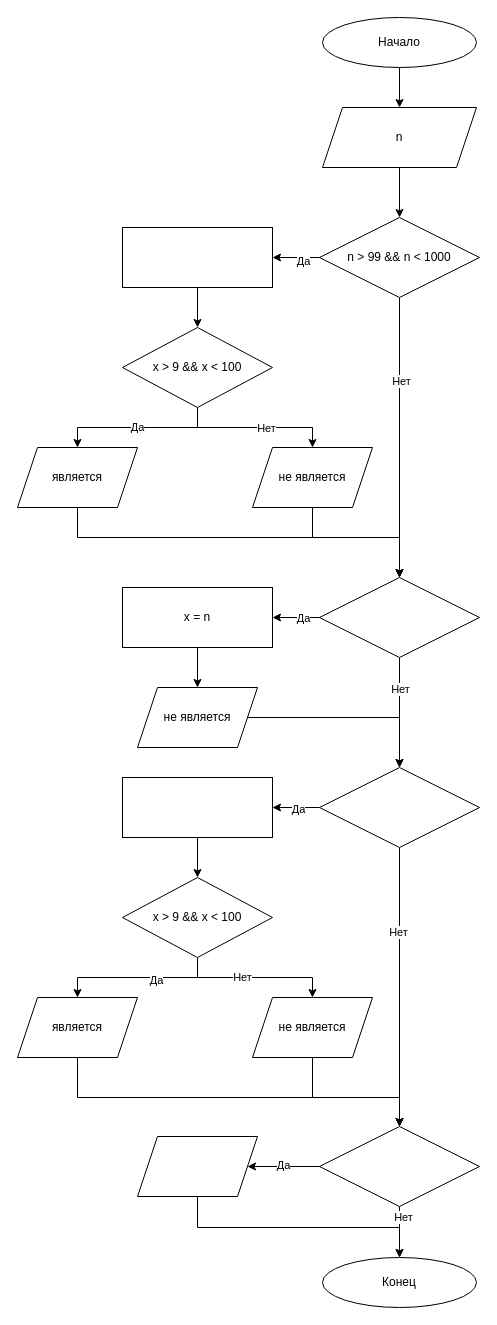
The diagram is 497 pixels wide and 1325 high, and some of its shapes have lost their labels. Each missing label, with the centre of its shape:
exception: the point at 197,1166
n < 1 || n > 999: the point at 399,1166
n < 10 && n>0: the point at 399,617
n < 100 && n > 9: the point at 399,807
x = n % 10 + n / 10;: the point at 197,807
x = n / 100 + n % 10 + (n / 10) % 10;: the point at 197,257
